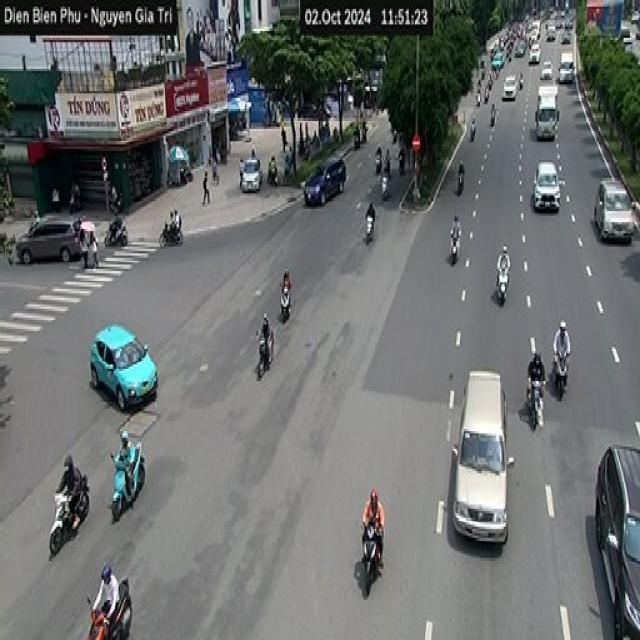car: (448, 364, 514, 546), (594, 442, 638, 638), (89, 322, 158, 411), (13, 213, 82, 264), (592, 178, 634, 242), (303, 153, 347, 207), (531, 160, 560, 211), (240, 156, 262, 191)
motorcycle: (49, 476, 90, 556), (85, 576, 133, 638), (109, 442, 145, 520), (360, 520, 382, 596), (525, 375, 545, 429), (255, 329, 274, 378), (551, 351, 569, 398), (104, 216, 128, 247), (158, 216, 182, 247), (495, 266, 509, 304), (279, 284, 291, 322), (449, 229, 460, 264)
person: (55, 453, 81, 529), (361, 486, 385, 566), (112, 429, 138, 498), (90, 564, 119, 624), (552, 320, 570, 387), (365, 200, 375, 244), (201, 169, 210, 204), (458, 160, 463, 191)
